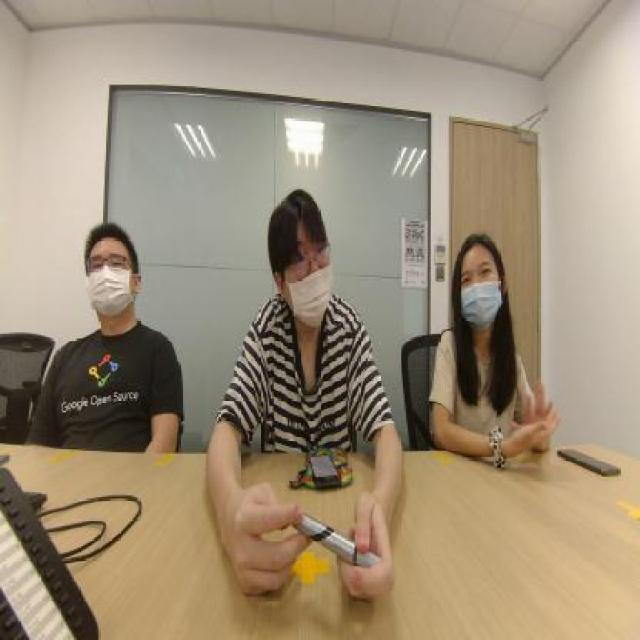Person: (218, 160, 390, 463), (33, 172, 182, 458), (405, 178, 547, 452)
